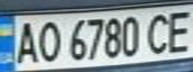0: (121, 12, 145, 57)
6: (63, 16, 87, 61)
7: (84, 15, 106, 60)
8: (103, 13, 127, 60)
A: (9, 18, 42, 65)
C: (142, 10, 175, 56)
E: (163, 7, 193, 55)
O: (33, 18, 63, 63)
